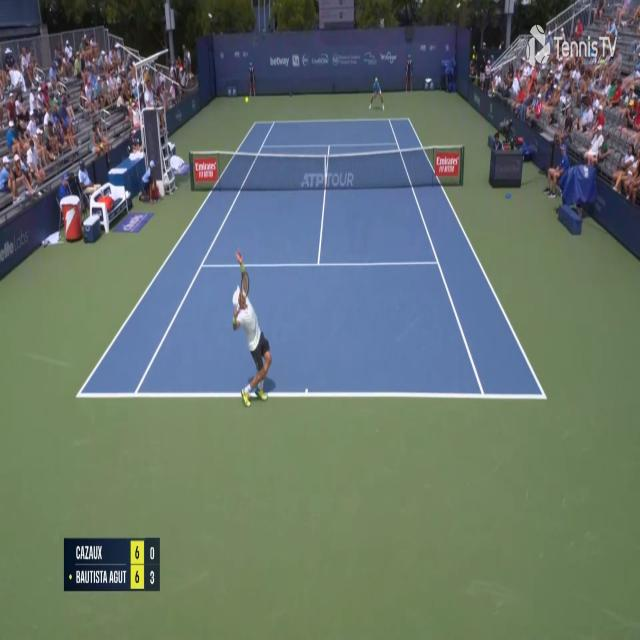tennis-player: (230, 250, 276, 413), (367, 75, 385, 112)
